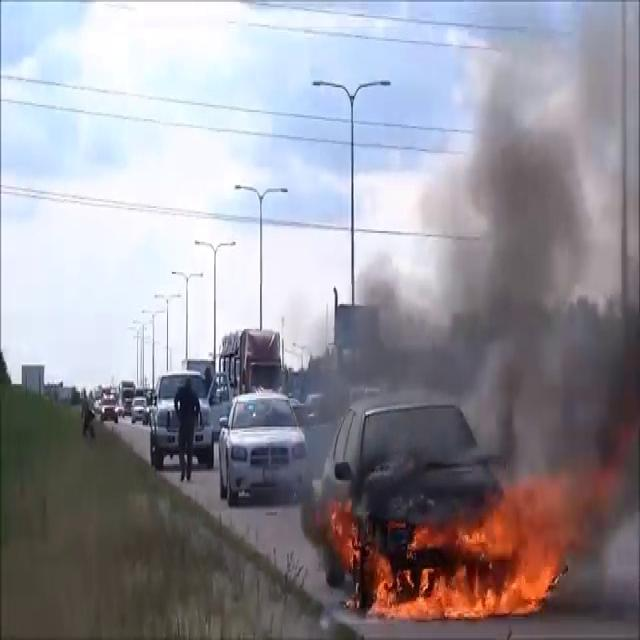Fire: (352, 480, 594, 624)
Smoke: (303, 4, 640, 484)
